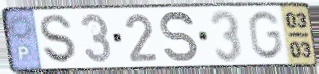2: (124, 12, 159, 64)
3: (209, 7, 246, 65), (78, 12, 114, 66)
G: (246, 10, 285, 62)
S: (158, 9, 200, 64), (38, 13, 79, 66)
